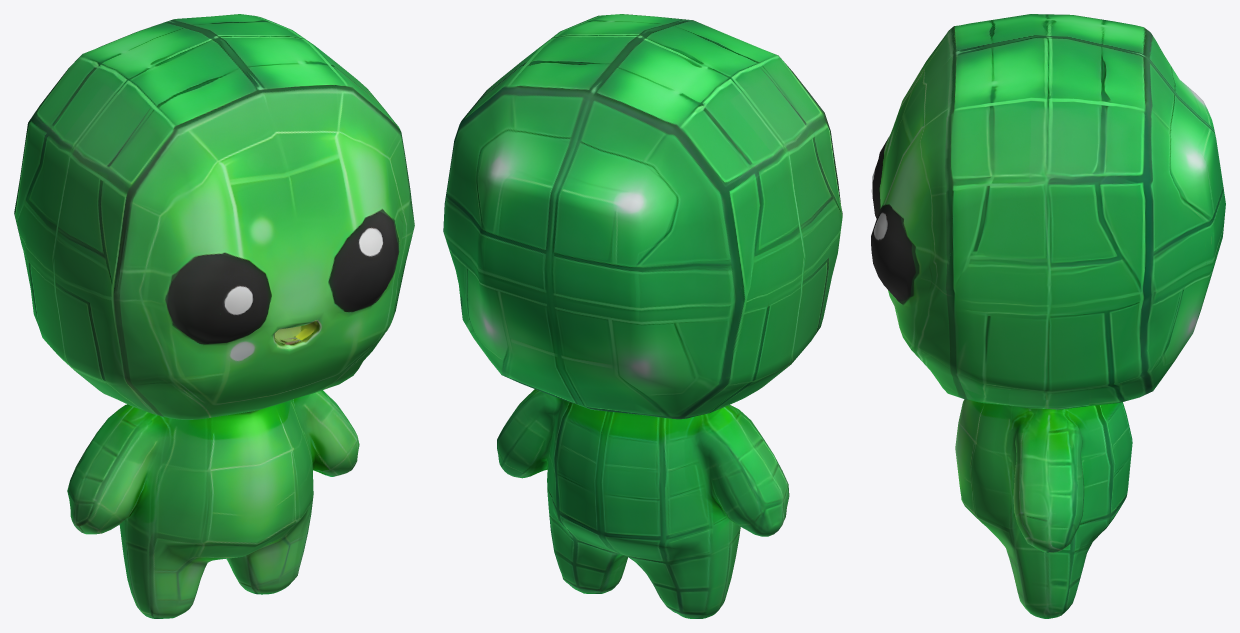
The model's file is enemy_slime.glb.
3 renders of one model, left to right at view 1: azimuth 30°, elevation 25°; view 2: azimuth 150°, elevation 25°; view 3: azimuth 270°, elevation 25°, orthographic. The views are drawn at different scales.
Size of the model in its own units: 1.13 by 1.9 by 1.1.
1 material, 1 textured.
